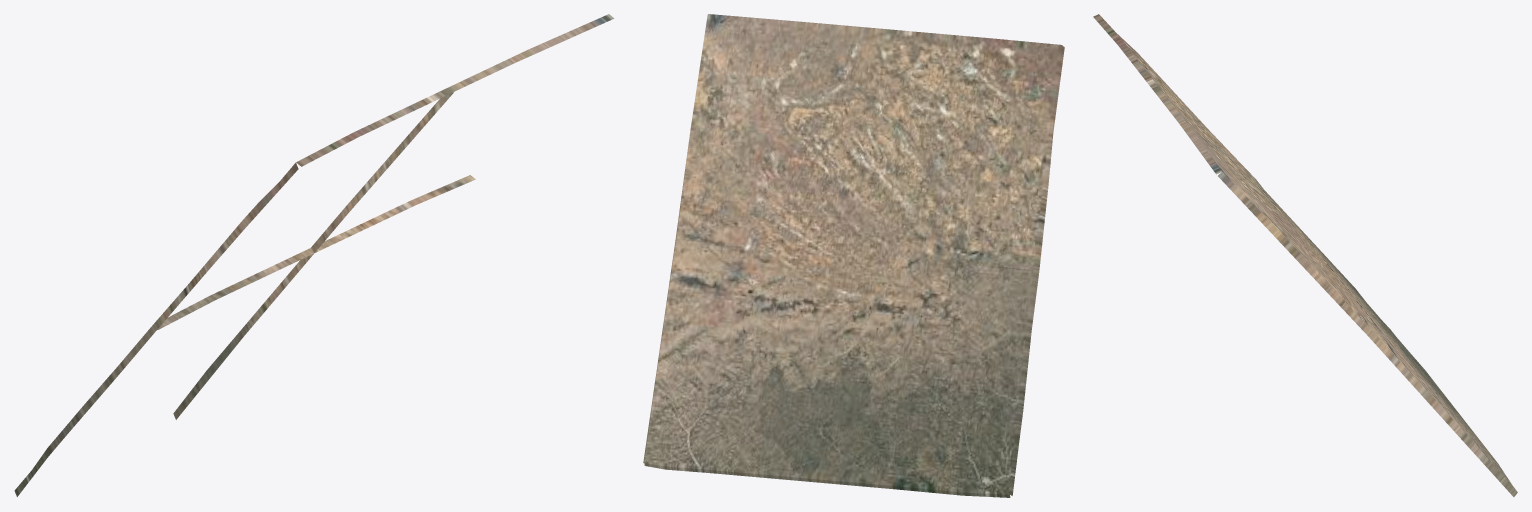
3 renders of one model, left to right at view 1: azimuth 30°, elevation 25°; view 2: azimuth 150°, elevation 25°; view 3: azimuth 270°, elevation 25°, orthographic. The views are drawn at different scales.
Size of the model in its own units: 297325 by 251545 by 263995.
Materials: 1 (1 with a texture image).
